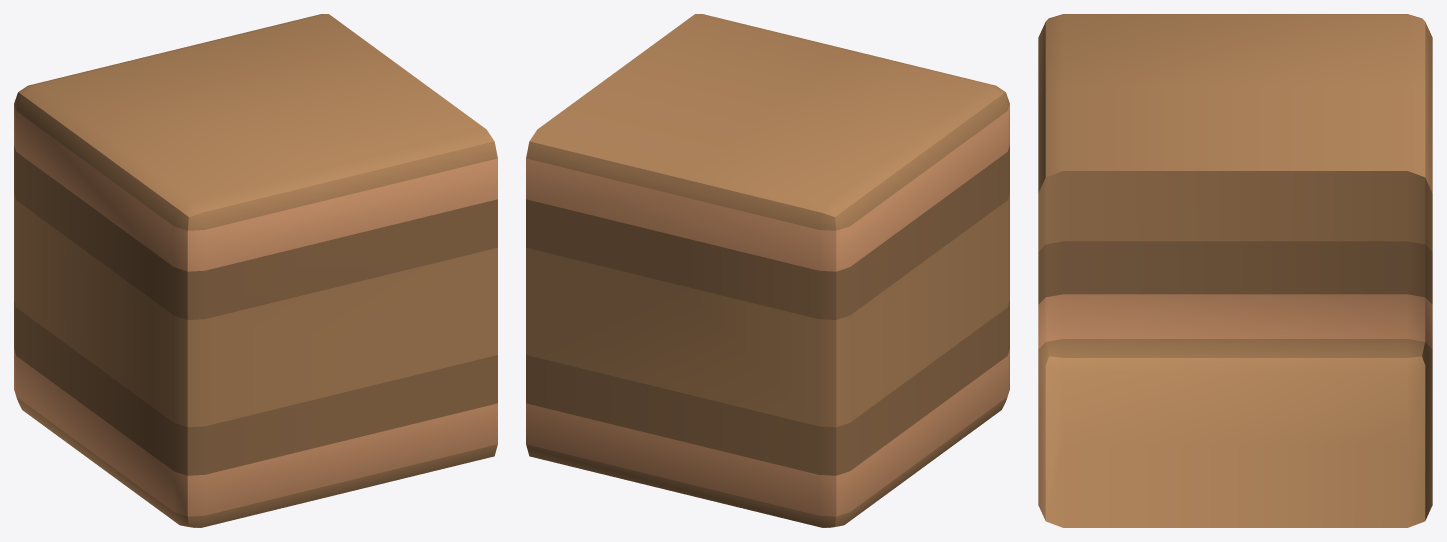
File: quaternius-platformer-game-cube-dirt-1-x-1-end.glb
The picture shows the model from 3 angles, left to right: view 1: azimuth 30°, elevation 25°; view 2: azimuth 150°, elevation 25°; view 3: azimuth 270°, elevation 25°; orthographic projection. The views are drawn at different scales.
Visible parts, largest first — view 1: Cube_Dirt_1x1End; view 2: Cube_Dirt_1x1End; view 3: Cube_Dirt_1x1End.
Part boxes in pixels (<box>): Cube_Dirt_1x1End: <box>14,14,497,527</box>; Cube_Dirt_1x1End: <box>526,14,1009,527</box>; Cube_Dirt_1x1End: <box>1038,14,1432,527</box>.
Bounding box in the file's own units: 2 × 2 × 2.
